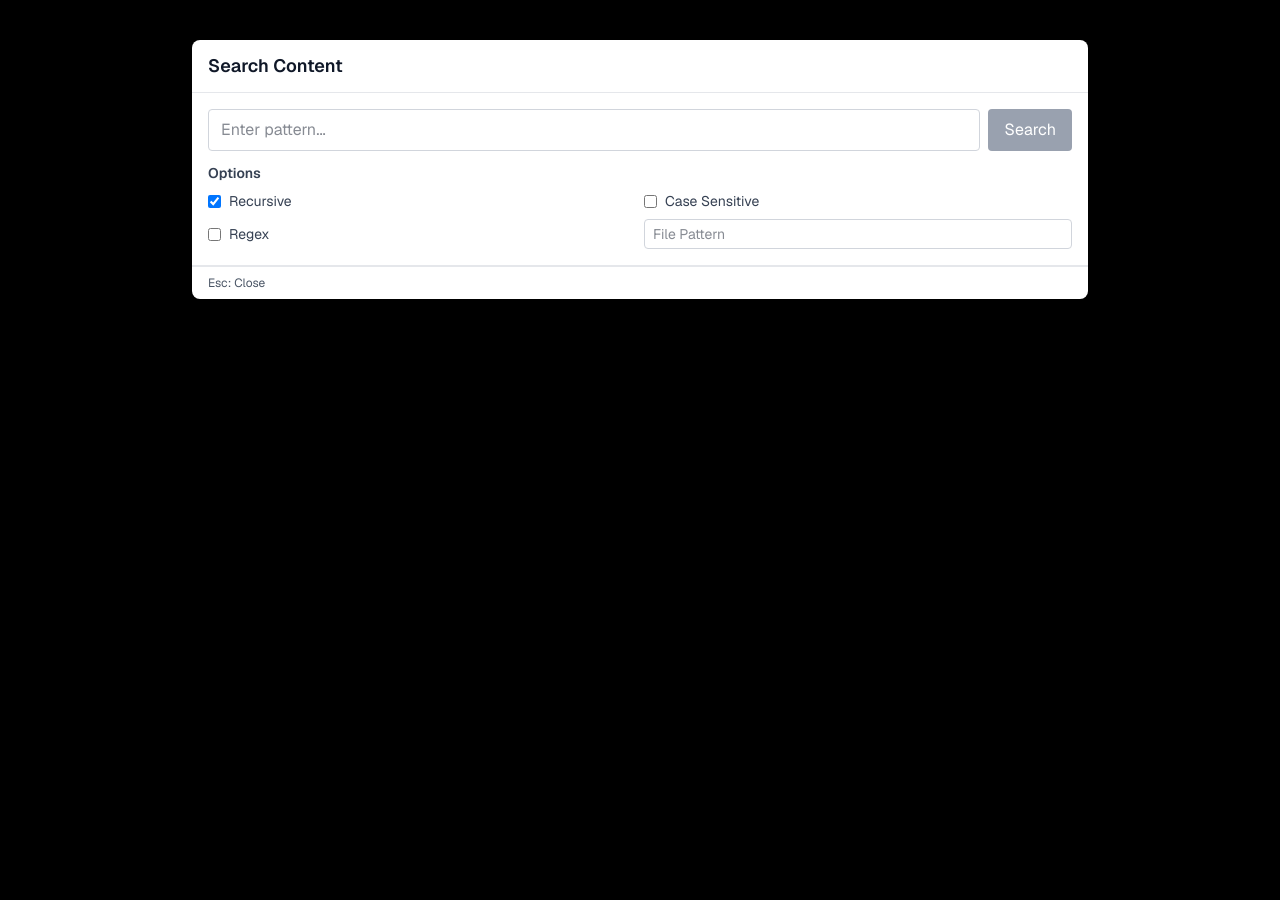
Test case: SearchDialog [TEST-FILE_SEARCH] [REQ-FILE_SEARCH] › Search Results [IMPL-FILE_SEARCH] › should show result count [REQ-FILE_SEARCH]
Type "test" into the field with placeholder "Enter pattern..." at (594, 130), box [208,109,980,151]
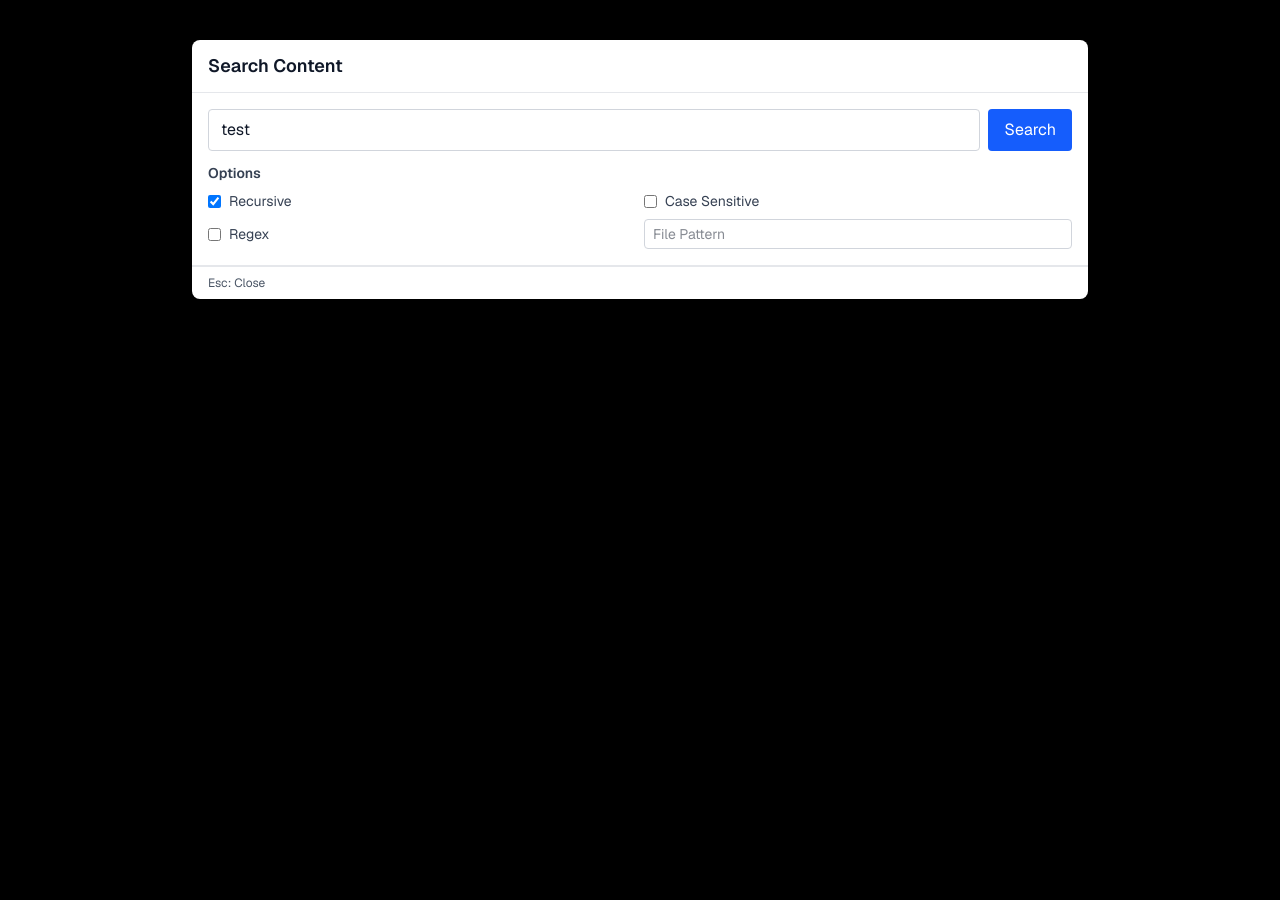
Click the button "Search" at (1030, 130), box [988,109,1072,151]
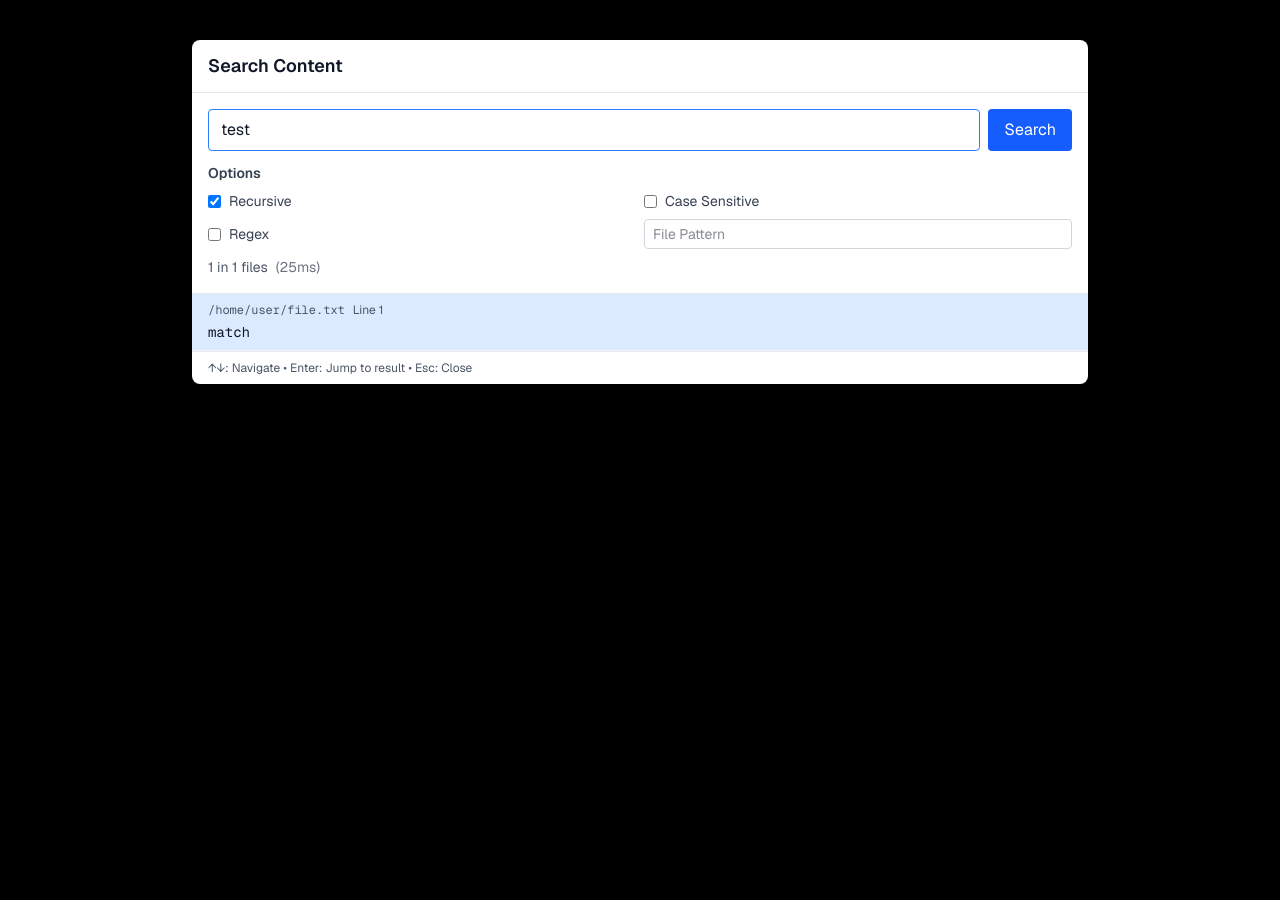
Check: the text "1 in 1 files" is shown, box [208,258,268,276]
